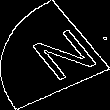N_SE: (14, 23, 96, 87)
